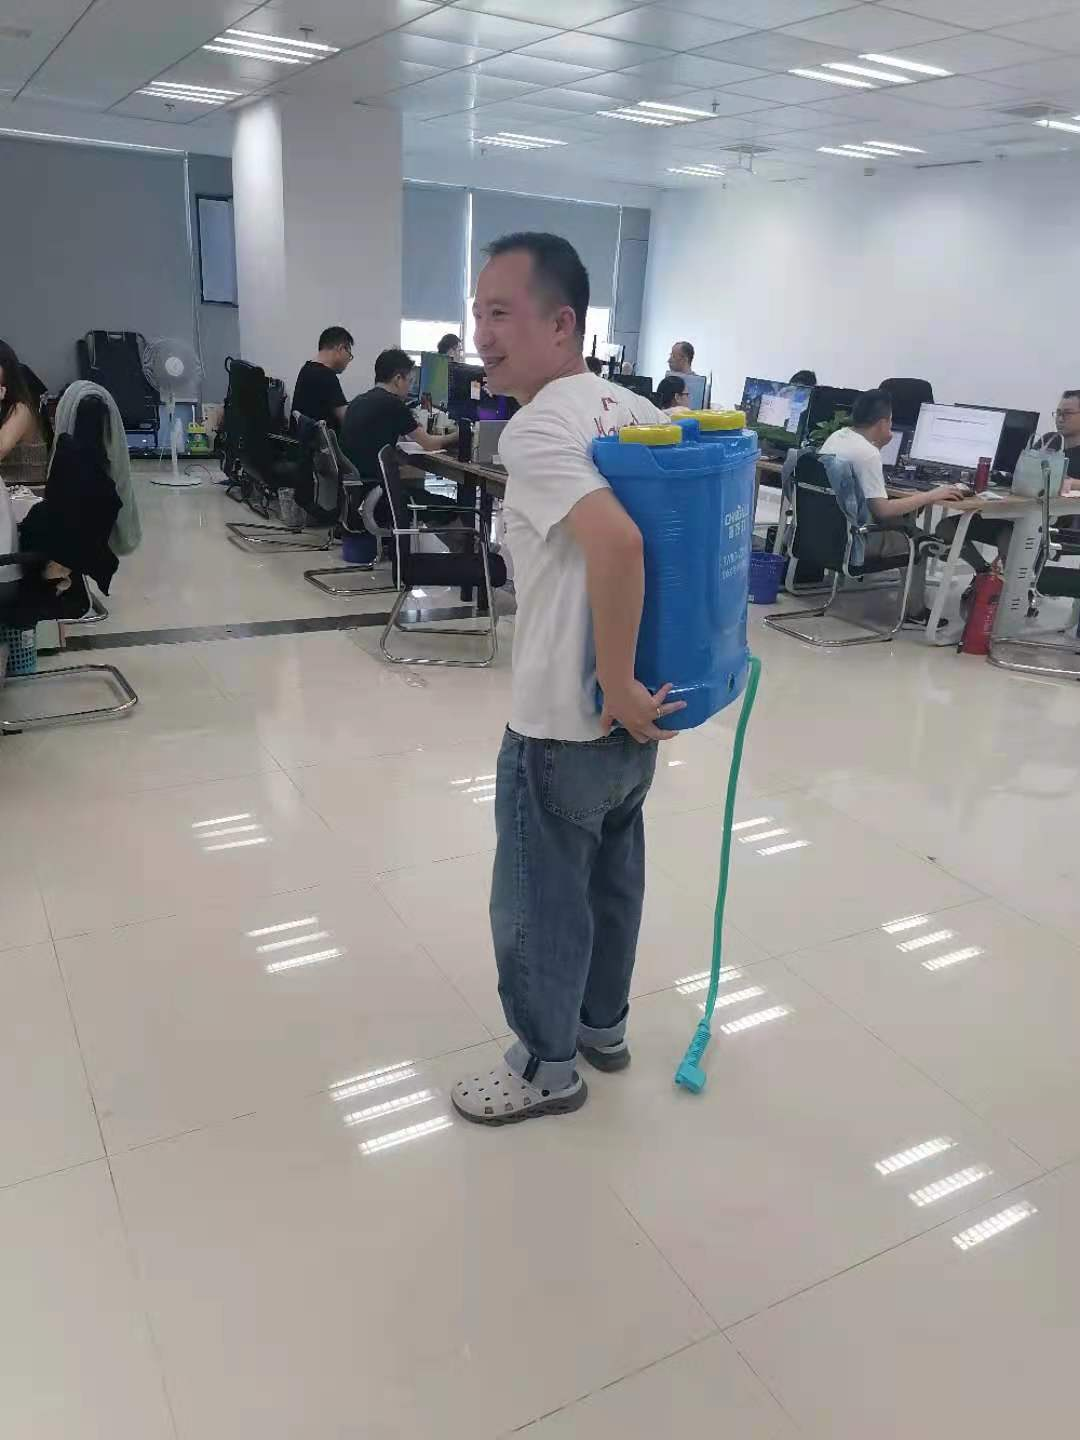berrl: (591, 404, 768, 735)
